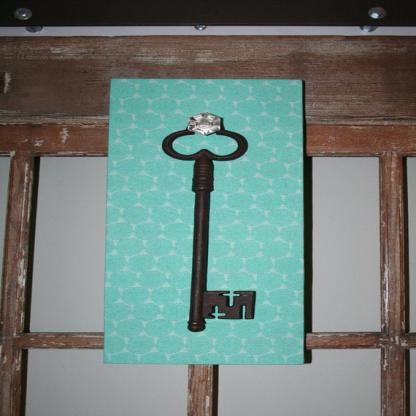key: (158, 111, 266, 329)
